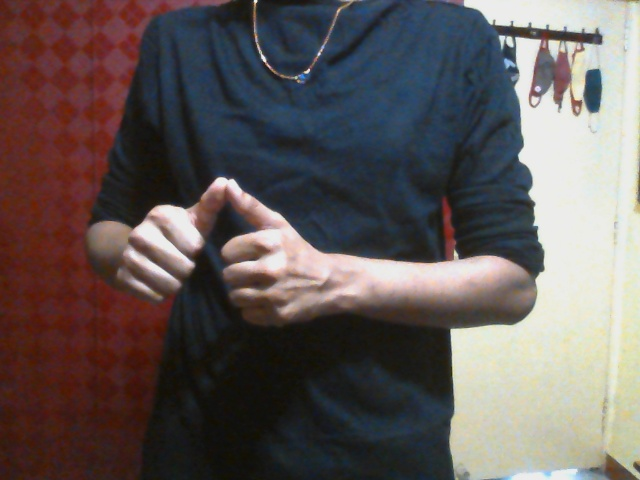A: (116, 175, 315, 329)
